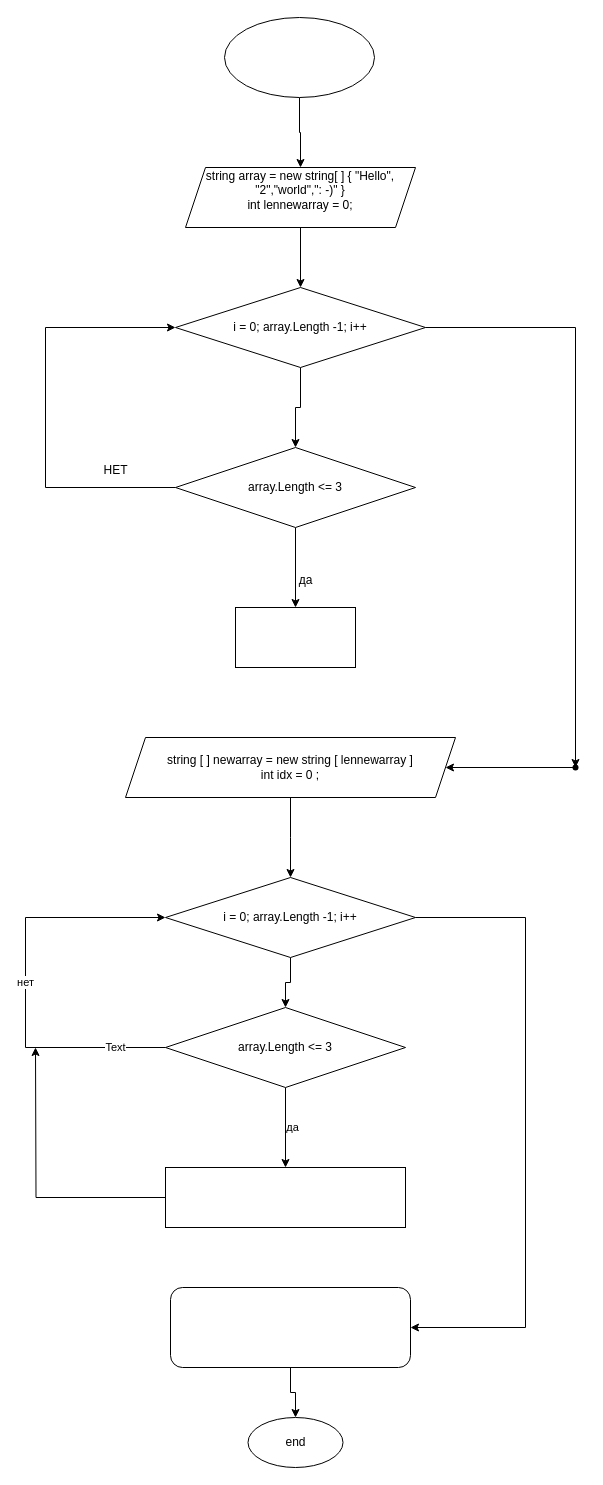
Image size: 603x1485. Some labels were removed from this diagram. Here are the shapes that lost their labels. From the top down, the centre of each, then its label:
point 299,57: start
point 295,637: lennewarray++
point 285,1197: newarray [idx] = array [ i ] idx++
point 290,1327: printarray(array) Console.Write ( "- ") printarray( newarray)
